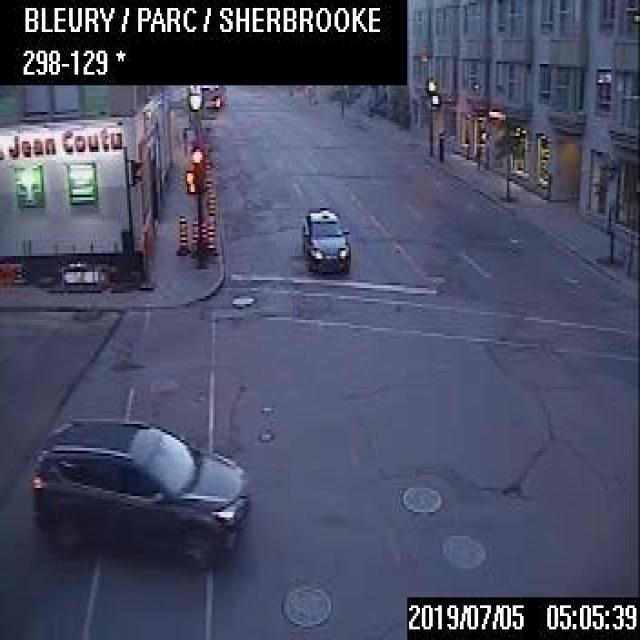bus: (198, 82, 219, 108)
construction: (176, 212, 190, 254), (204, 214, 216, 254), (189, 216, 197, 256), (205, 188, 215, 218), (202, 170, 212, 193), (199, 217, 205, 253)
vehicle: (29, 413, 247, 576), (298, 205, 351, 278)
